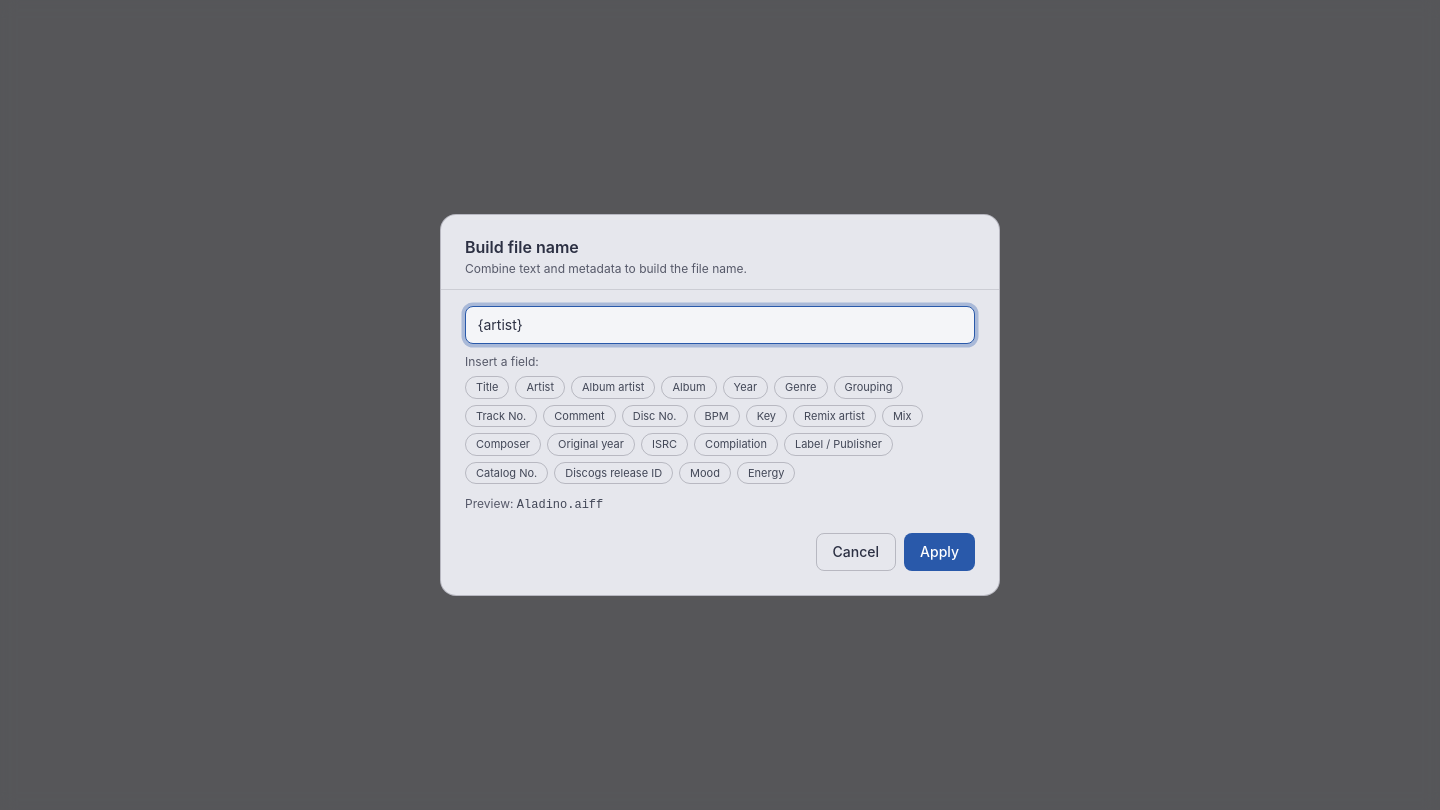
RenameModal › appends a field token when its chip is clicked
The image size is (1440, 810).
Click the button with test id "rename-token-title" at (487, 387), box left=465, top=376, right=510, bottom=398
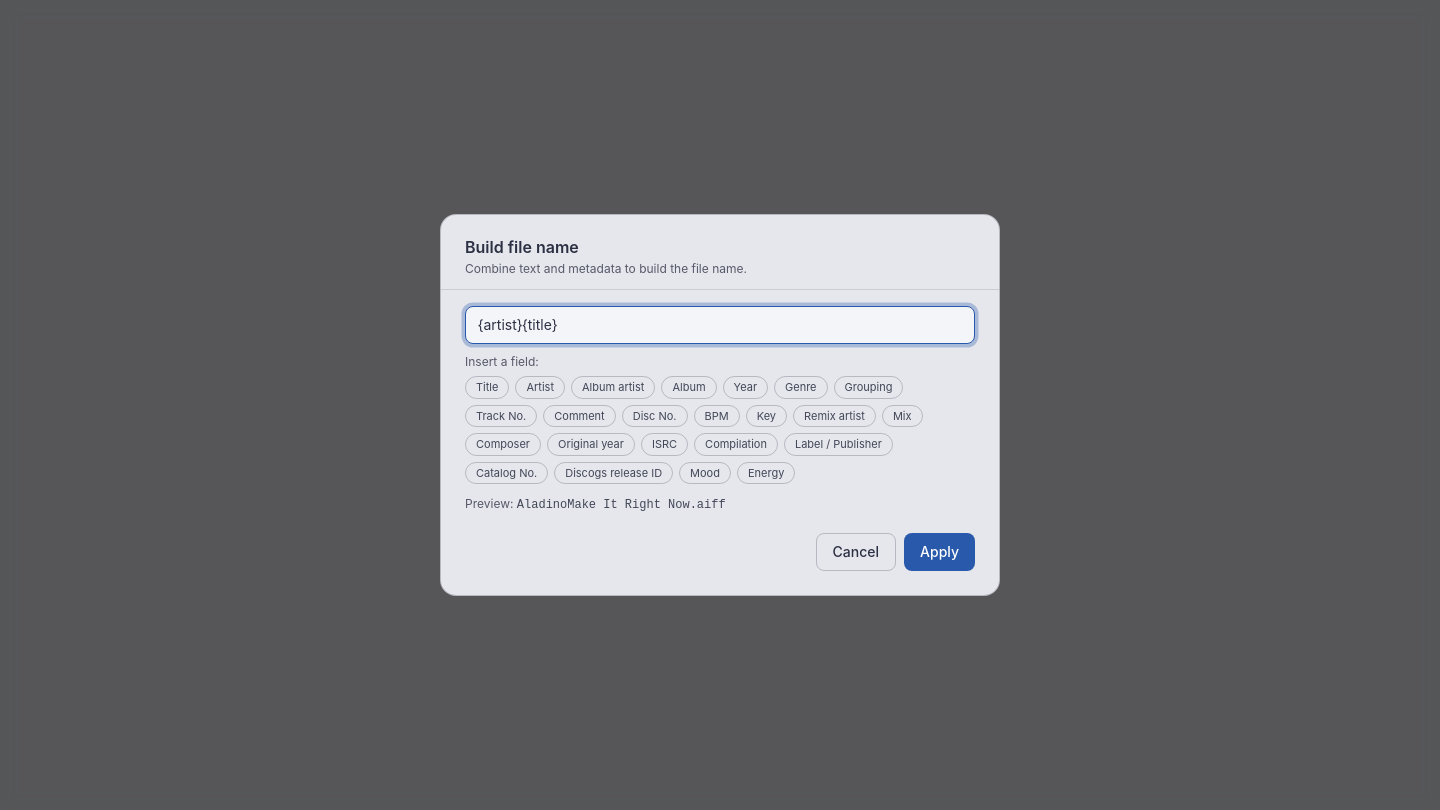
Check: the field with test id "rename-format" holds "{artist}{title}", box left=465, top=306, right=975, bottom=344
